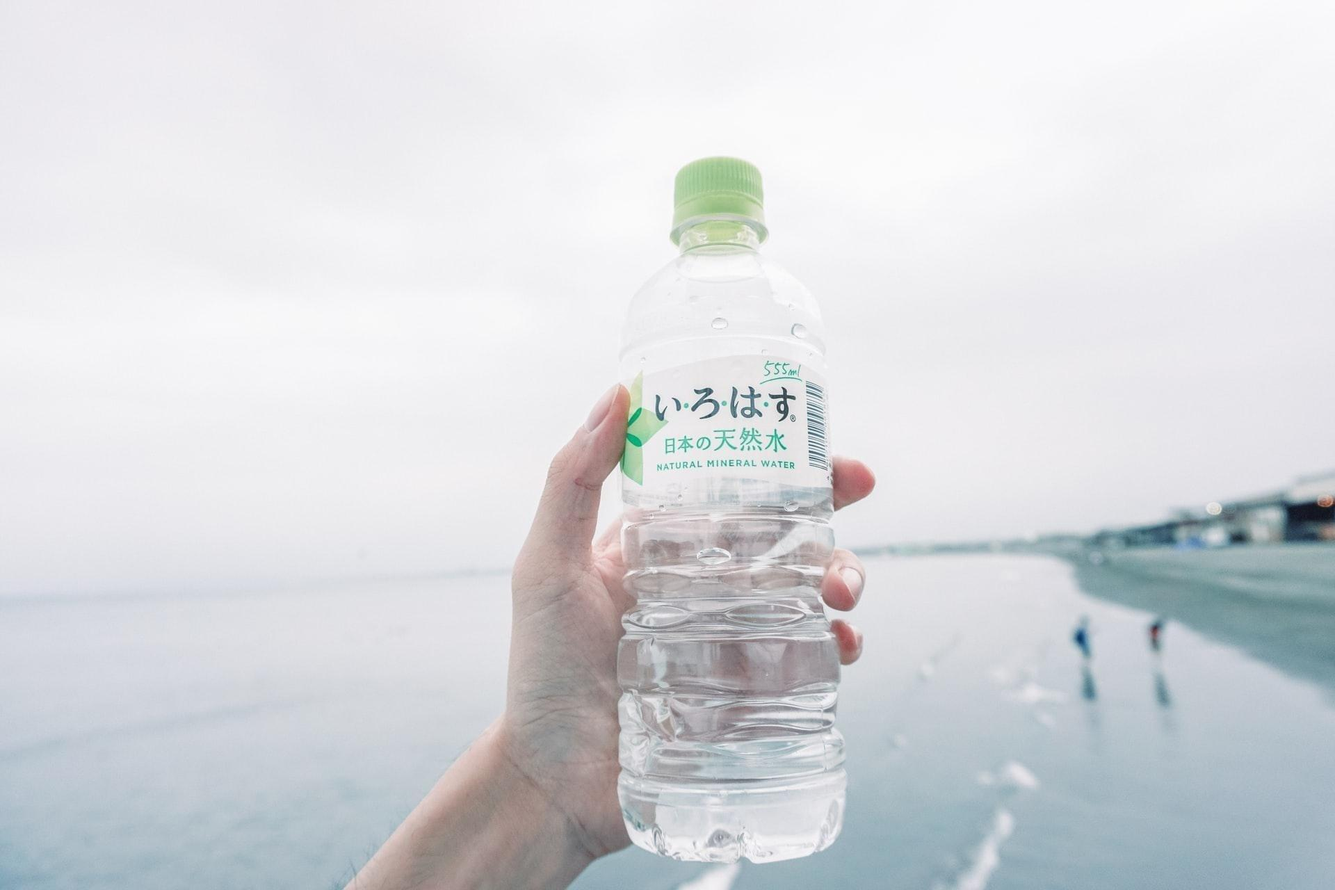bottle-plastic: (607, 149, 856, 873)
